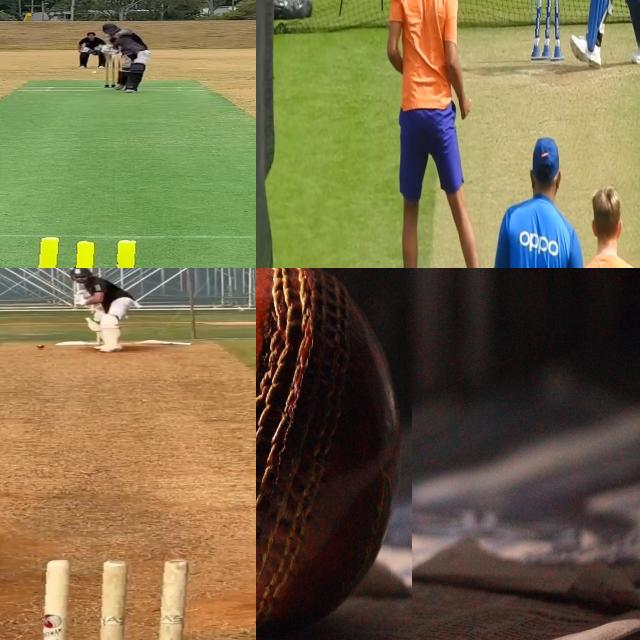Cricket ball: (256, 268, 411, 640), (42, 555, 199, 640), (289, 0, 300, 5), (91, 70, 100, 75), (36, 346, 45, 350)
Stumps: (531, 0, 562, 64)
